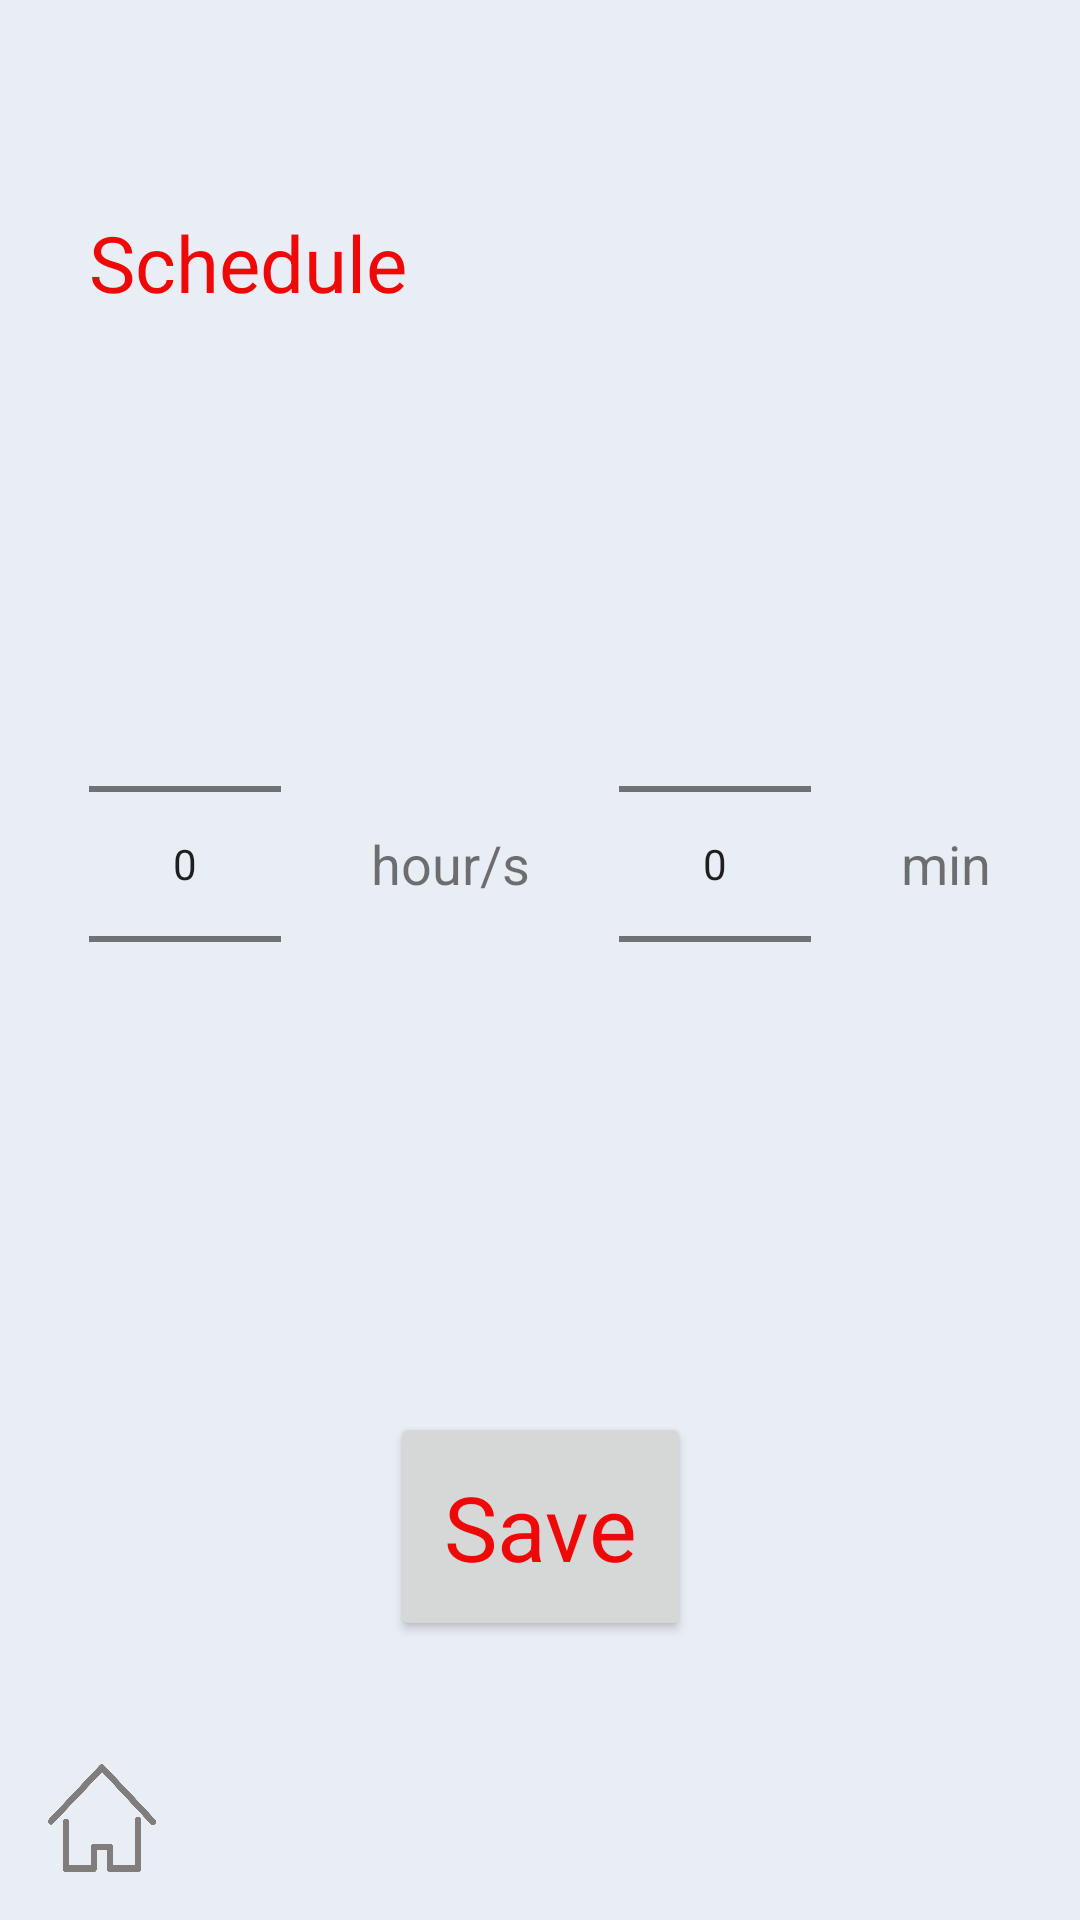

Screen size 1080x1920. Icon name, then its center in pixels as point (x, y):
home: point (102, 1818)
